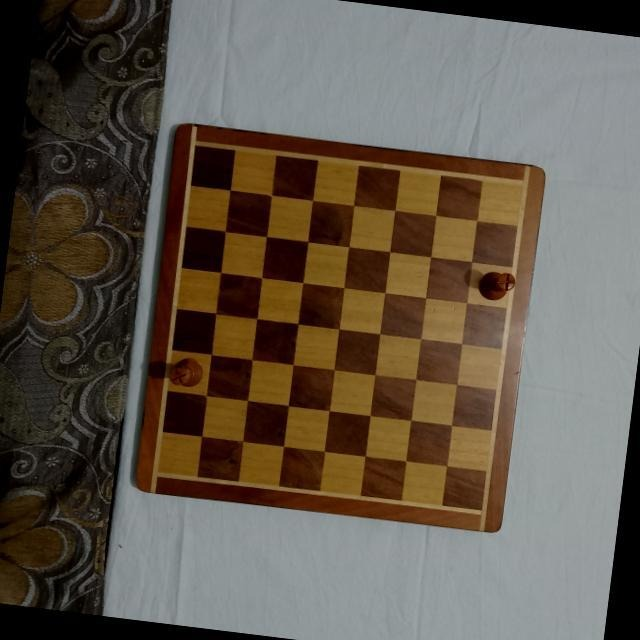white-rook: (476, 267, 518, 305), (166, 356, 206, 392)
